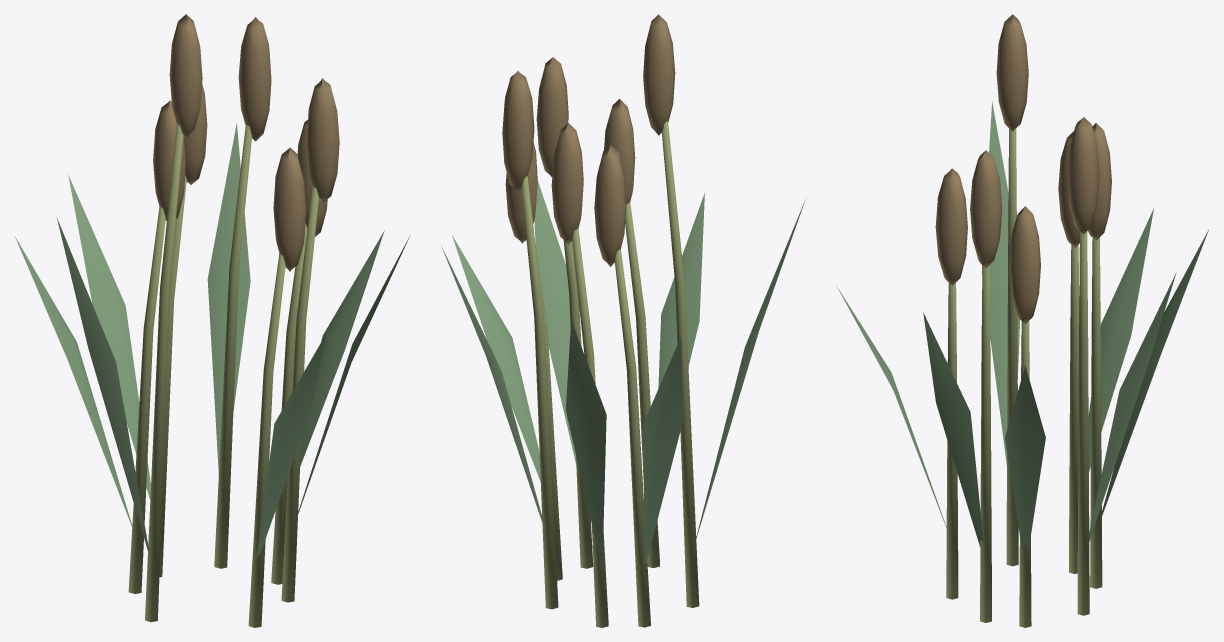
The model's file is SM_Reeds_UV_0172.fbx.
3 renders of one model, left to right at view 1: azimuth 30°, elevation 25°; view 2: azimuth 150°, elevation 25°; view 3: azimuth 270°, elevation 25°, orthographic. The views are drawn at different scales.
Parts seen in each view (by area): view 1: SM_Reeds_UV_0172; view 2: SM_Reeds_UV_0172; view 3: SM_Reeds_UV_0172.
Boxes of the visible parts, x1,y1,x2,y2 form: SM_Reeds_UV_0172: [15, 14, 410, 627]; SM_Reeds_UV_0172: [441, 14, 805, 627]; SM_Reeds_UV_0172: [836, 14, 1208, 627].
Size of the model in its own units: 97.4 by 96.27 by 161.
